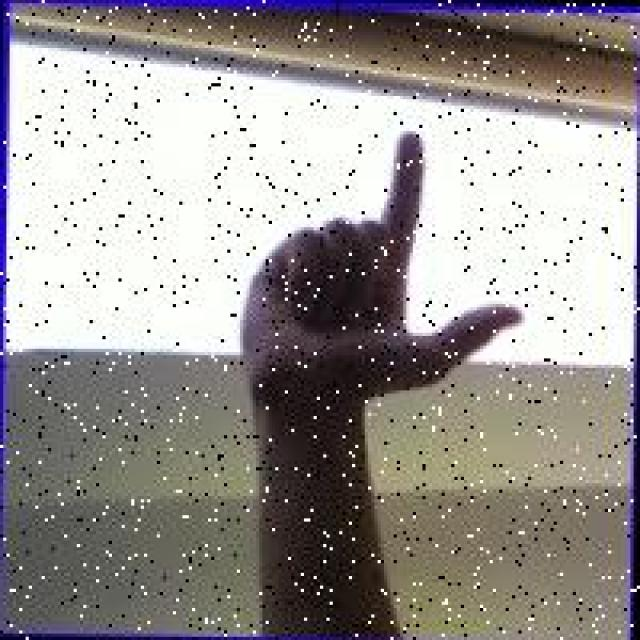L: (228, 122, 534, 416)
